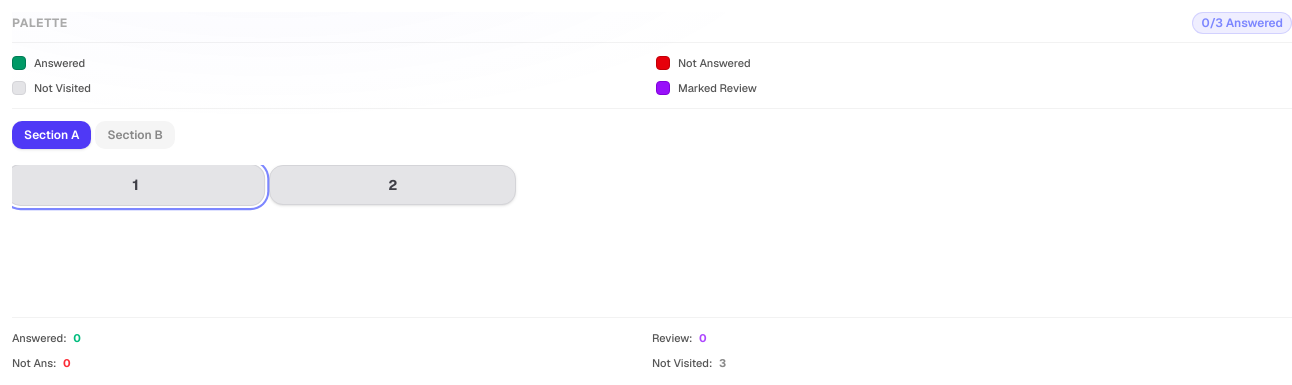
it: Component: AttemptSummary (C26) › switches section tabs correctly
What coordinates should you click on to do the following:
click the button "Section B"
I would click on:
 (135, 135)
Its box is [96,121,175,149].
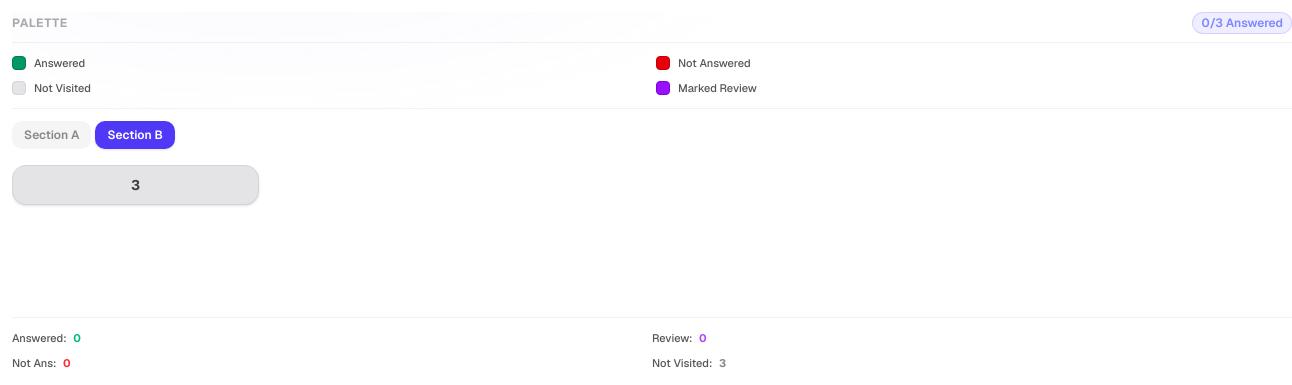
Now the button "3" is shown, box [12,165,259,205]
